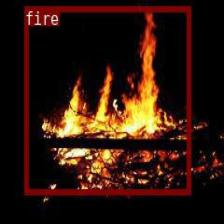fire: (24, 6, 190, 194)
